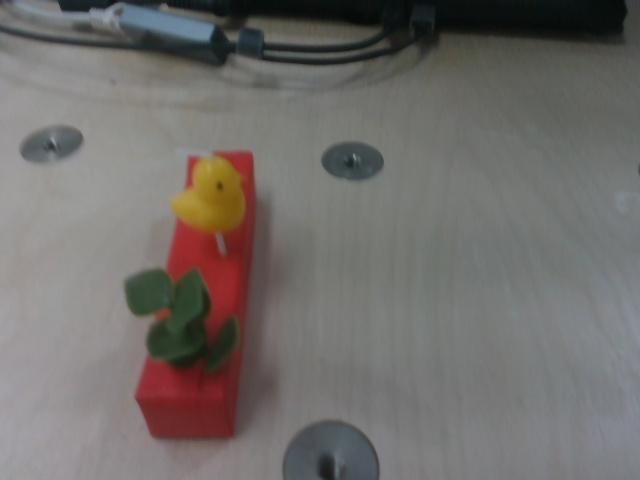leaf: (118, 261, 246, 384)
y_duck: (158, 137, 267, 245)
